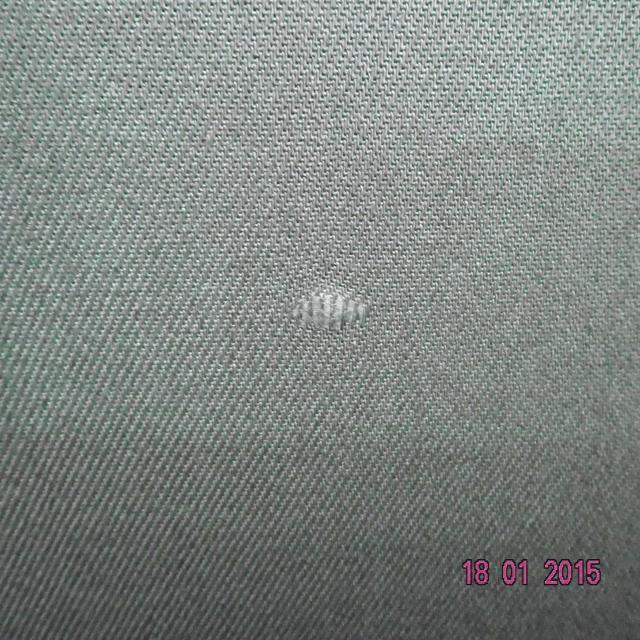stains: (143, 203, 418, 387)
